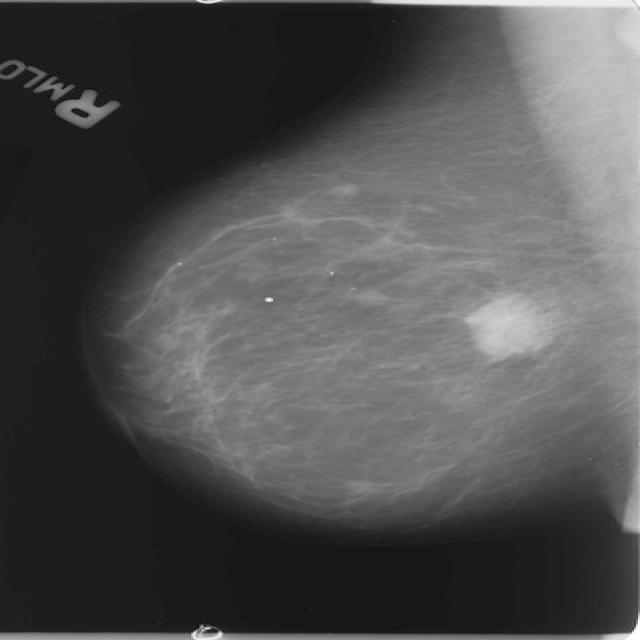tumour: (469, 293, 554, 356)
